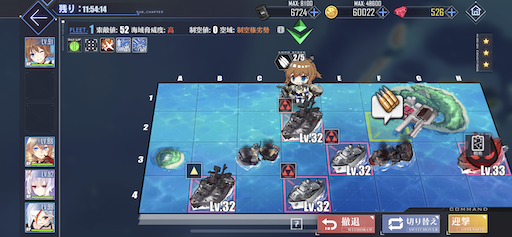boss: (459, 132, 507, 175)
lv1: (185, 165, 236, 212)
lv3: (279, 163, 330, 211), (326, 130, 375, 174), (279, 99, 325, 142)
